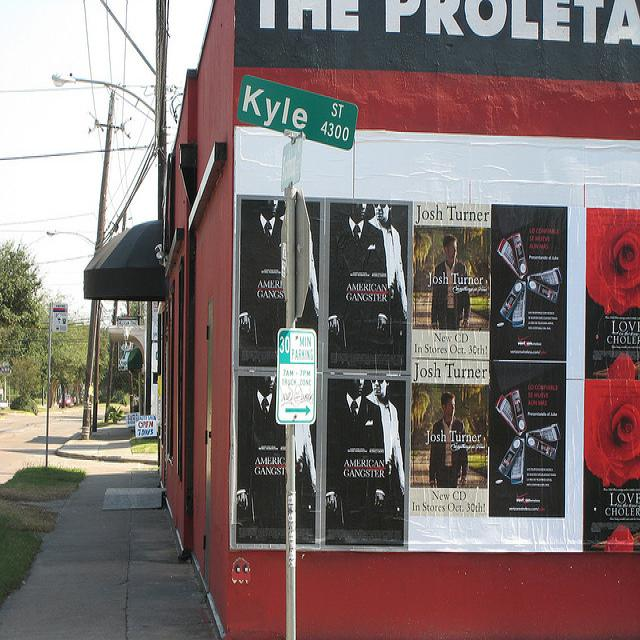Vehicle: (59, 394, 73, 409)
